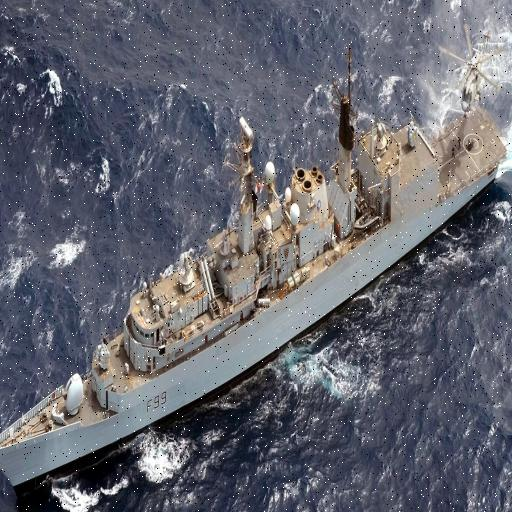Fragata: (1, 37, 347, 512)
